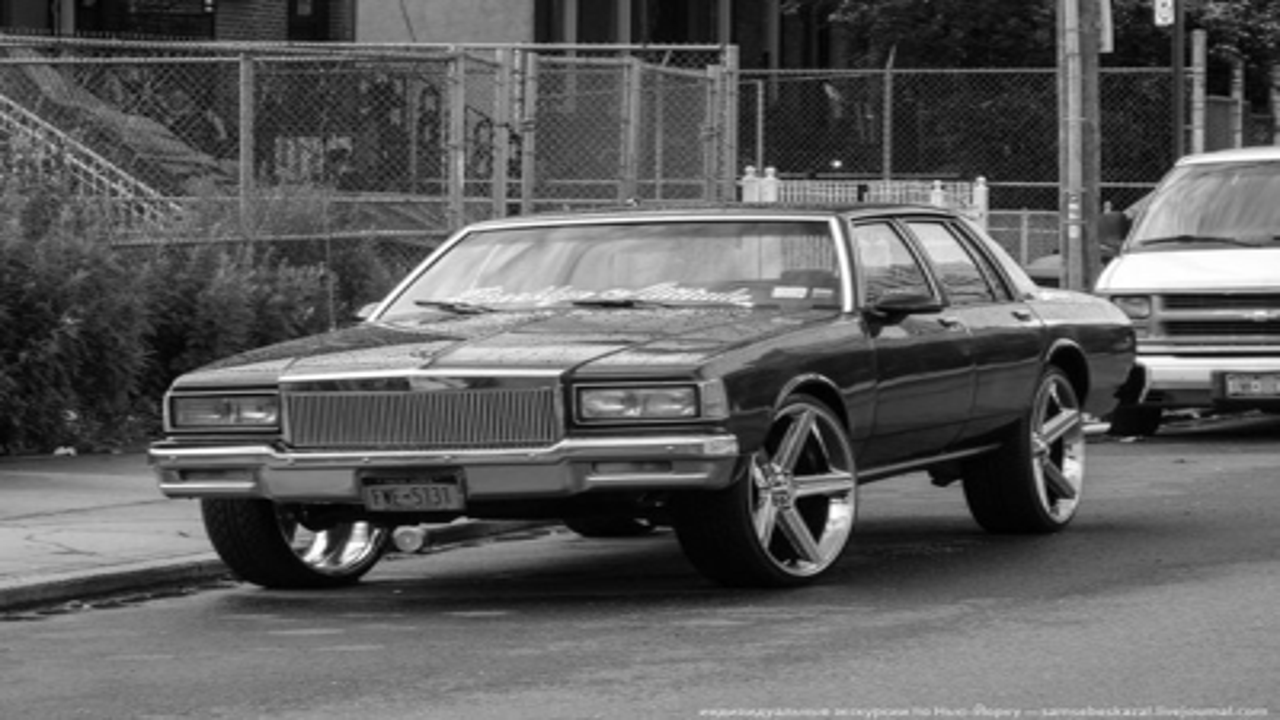license: (355, 470, 471, 517), (1214, 366, 1280, 405)
